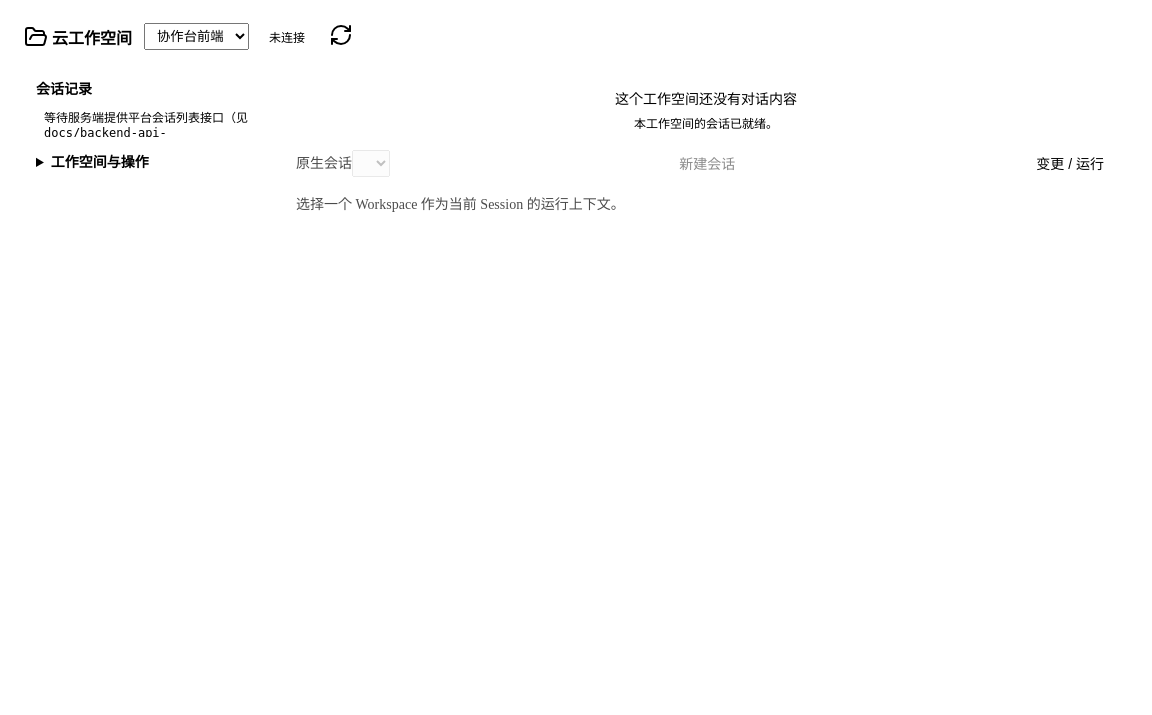
Scenario: 2-4 审批卡、接管与证据抽屉 › 批准成功 → 证据抽屉：request ID、审计 ID、影响对象、下一步动作、revision
The width and height of the screenshot is (1152, 715).
Click the button with aria-label "打开变更与运行面板": (1070, 163) [1024,149,1116,177]
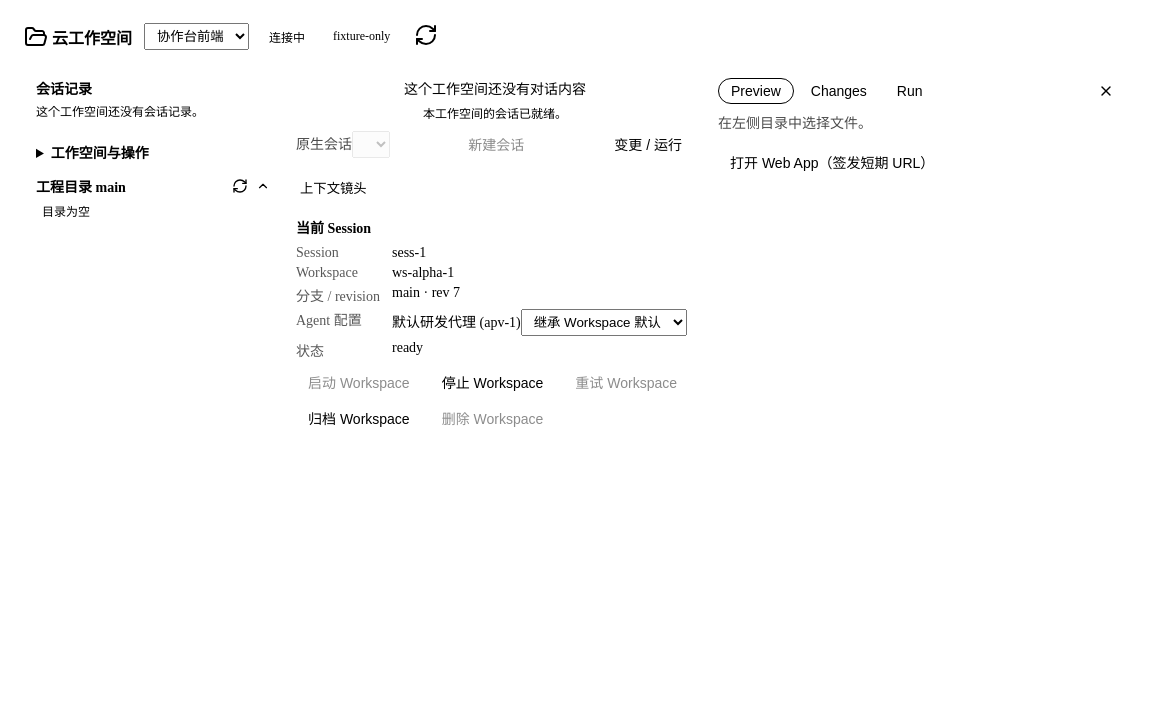
Click the tab "Run": (910, 91) [884,78,936,104]
(page scrolled)
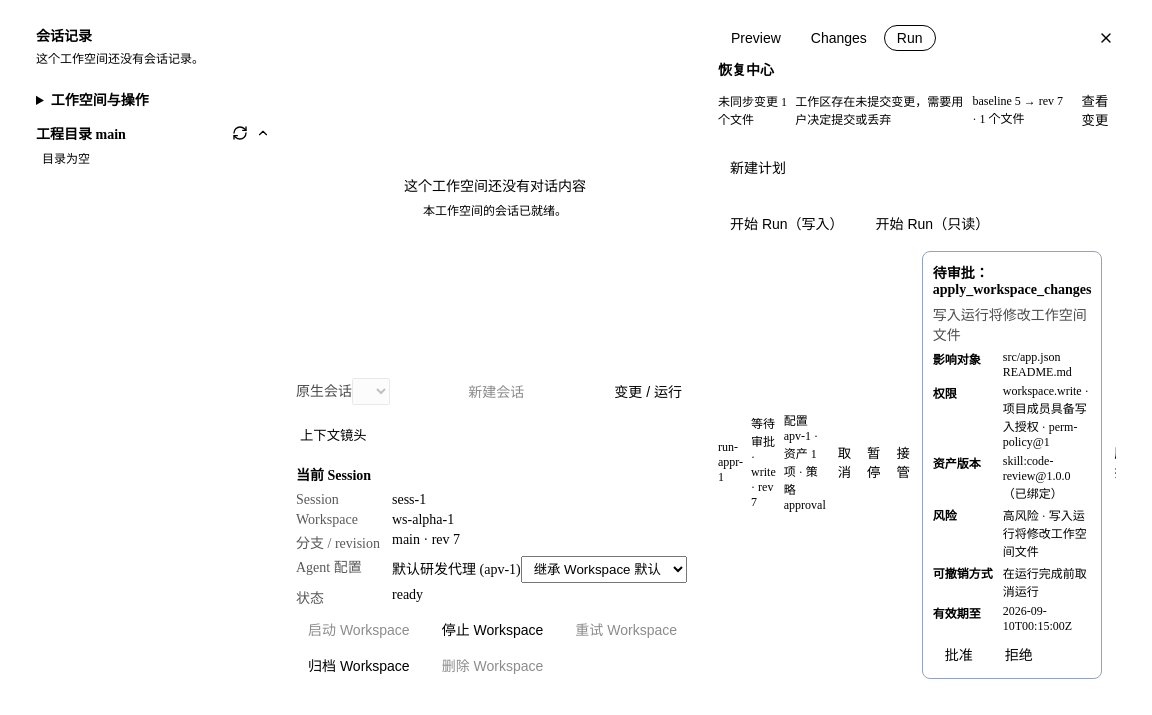
Click the button "批准": (959, 654) [933,640,985,668]
(page scrolled)
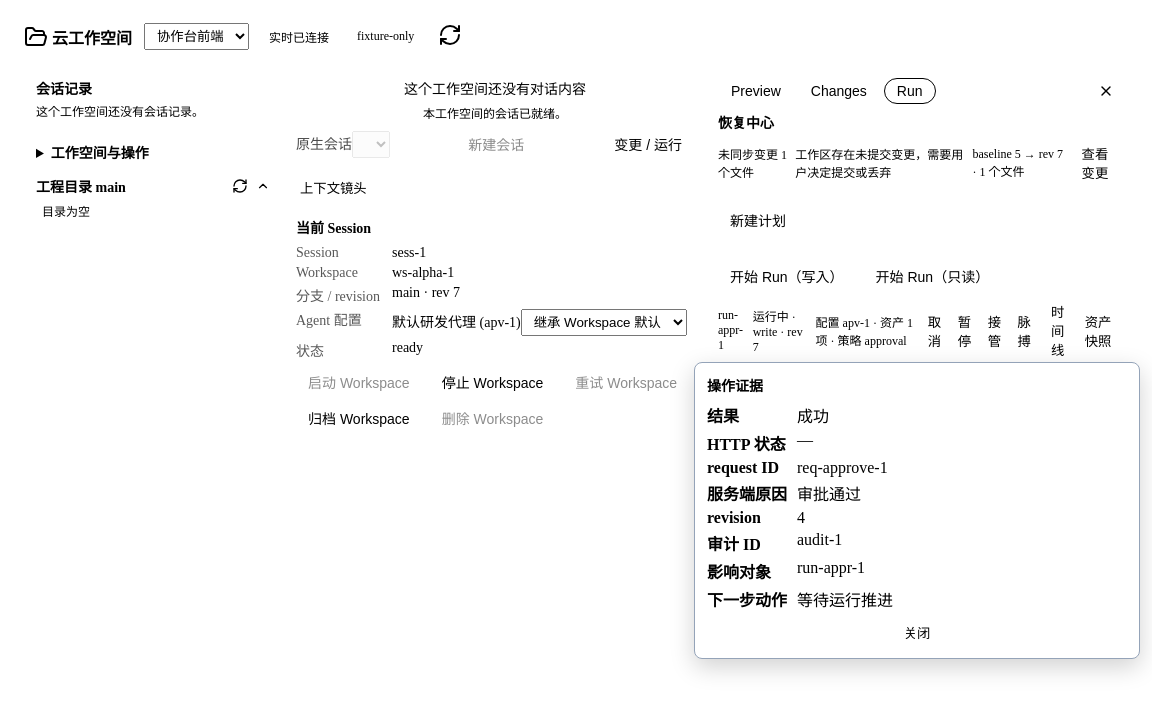
Result: the element "操作证据" shows "req-approve-1" at [797,459,888,476]
Result: the element "操作证据" shows "audit-1" at [797,531,842,548]
Result: the element "操作证据" shows "run-appr-1" at [797,559,865,576]
